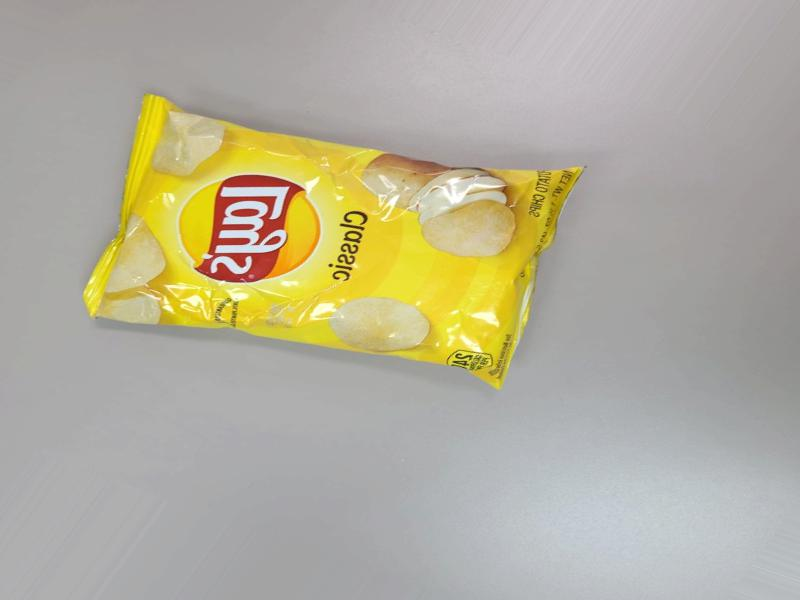lays: (97, 87, 571, 394)
